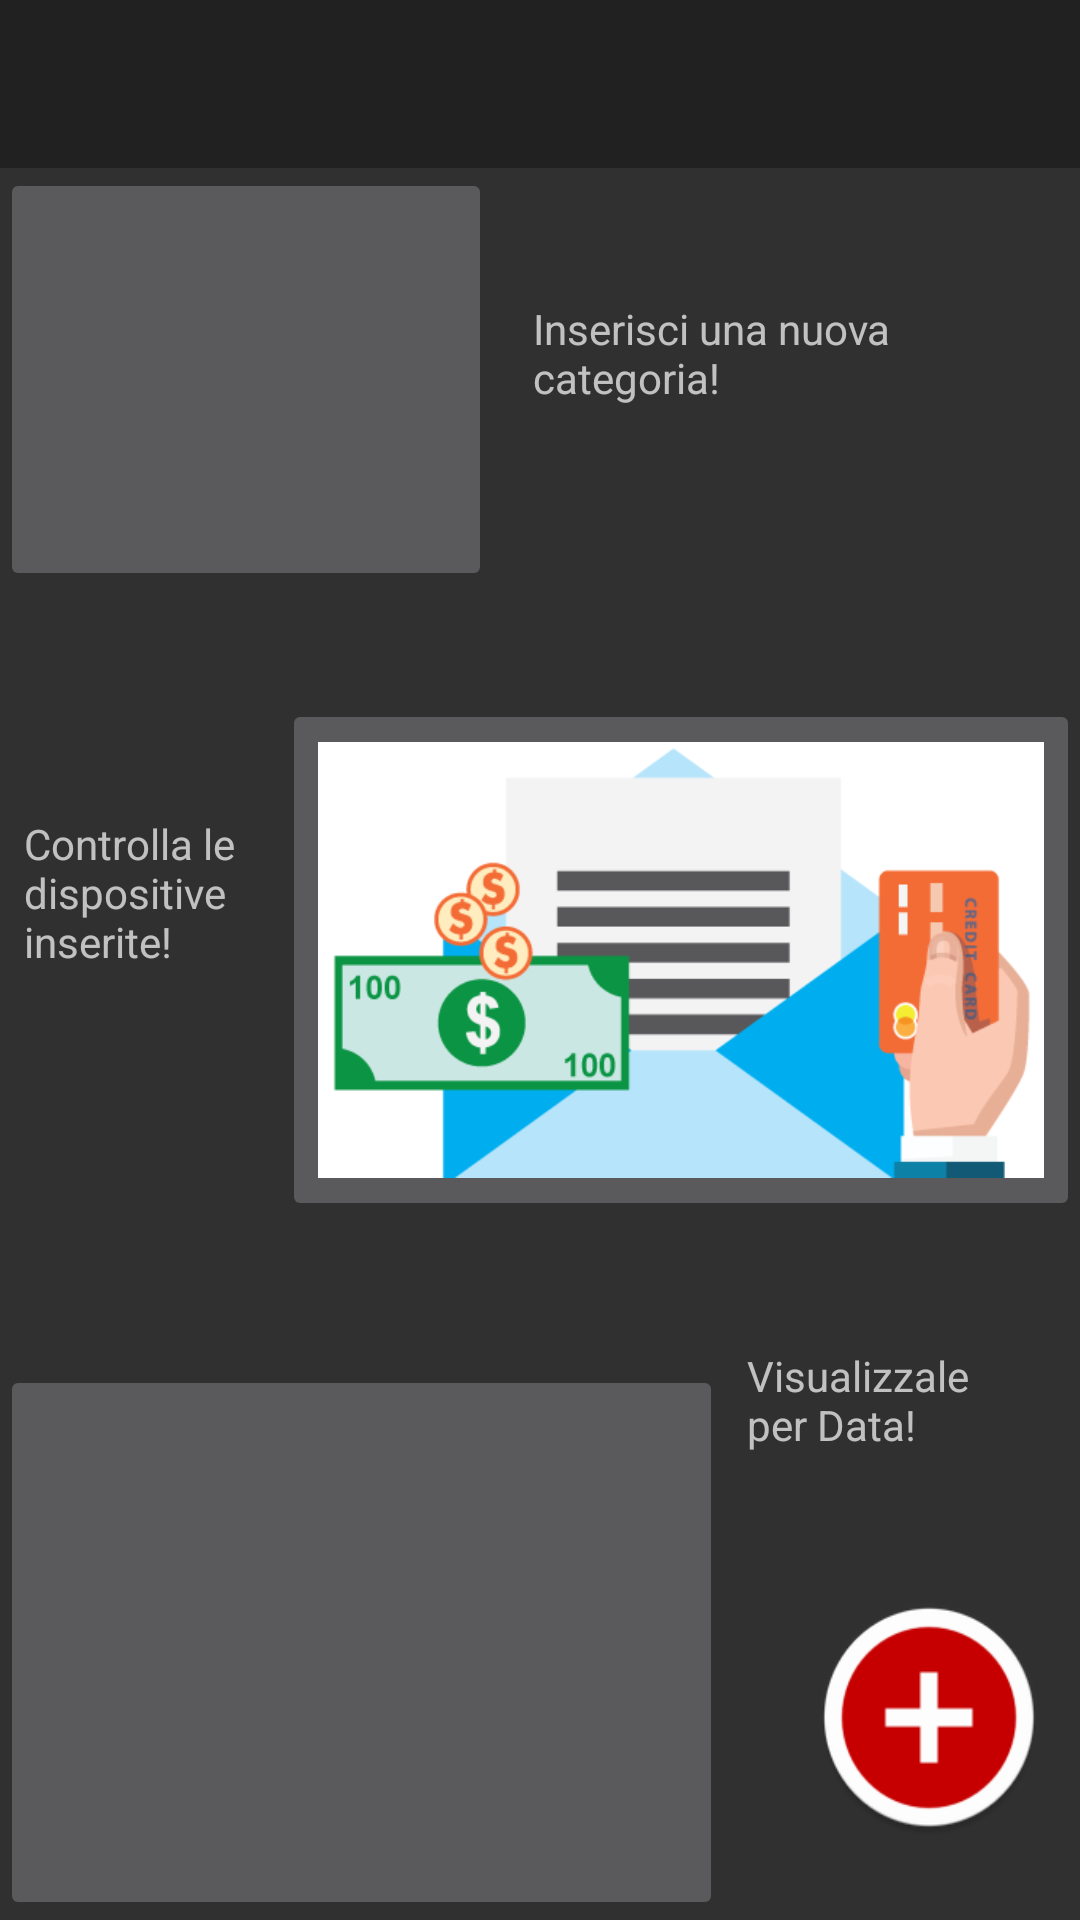

Screen size 1080 x 1920. Icon name, then its center in pixels as [x,y]:
add circle: [929,1717]
